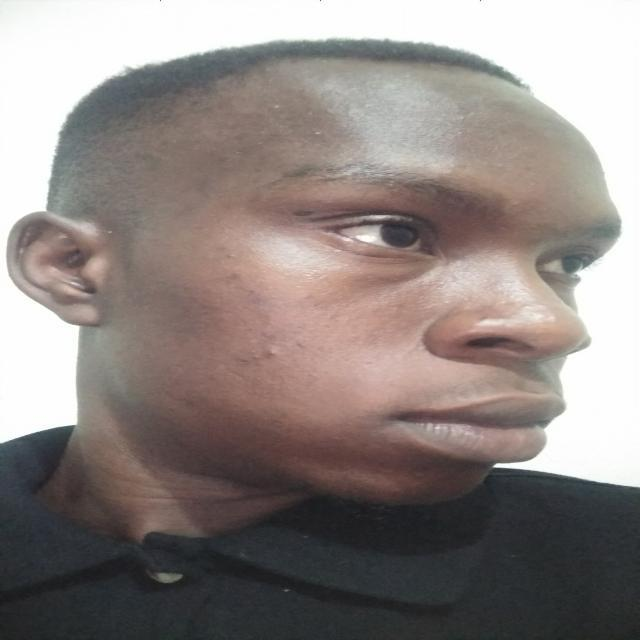Acne: (188, 263, 264, 292), (241, 342, 288, 378)
